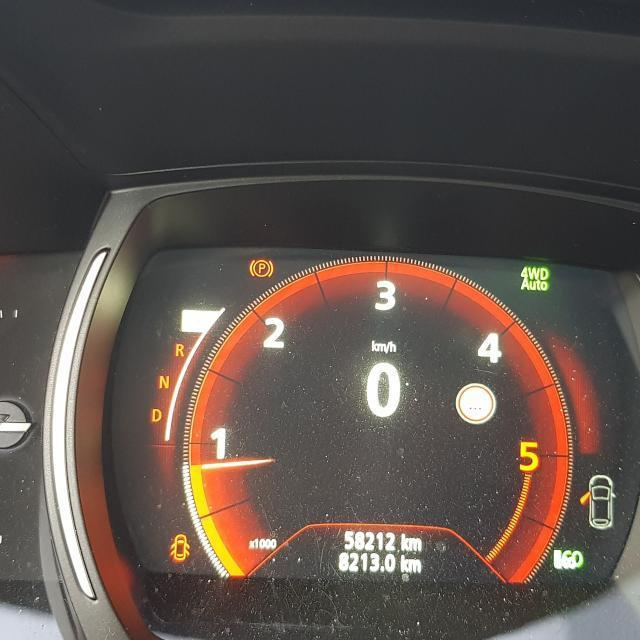Doors: (170, 533, 190, 560)
